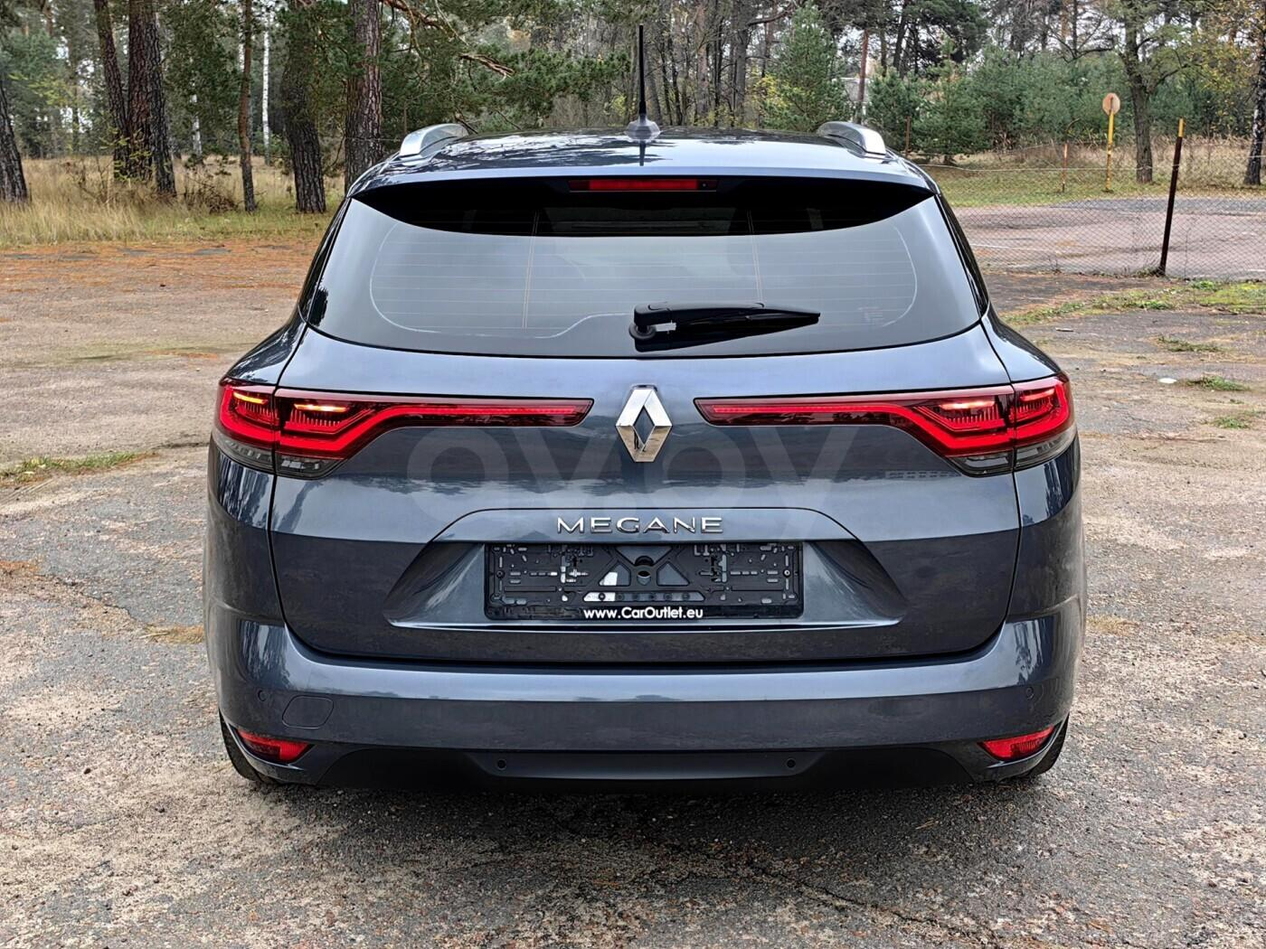Megane_2020: (196, 123, 1092, 824)
